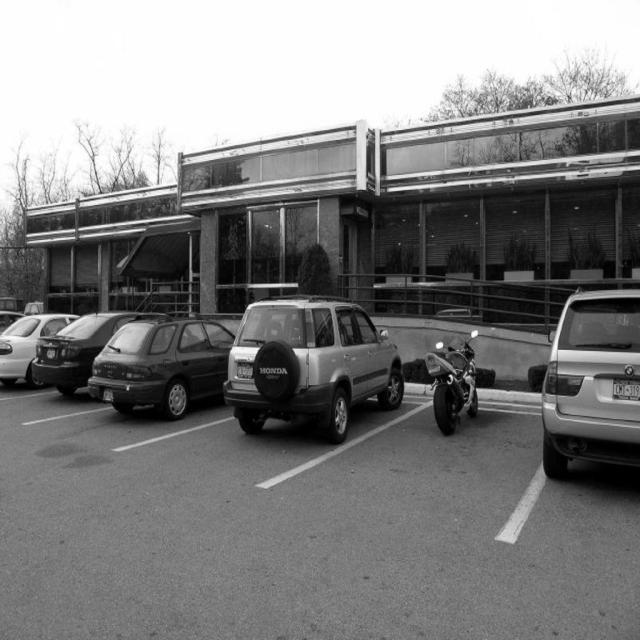plate: (613, 380, 640, 400), (237, 363, 252, 377)
